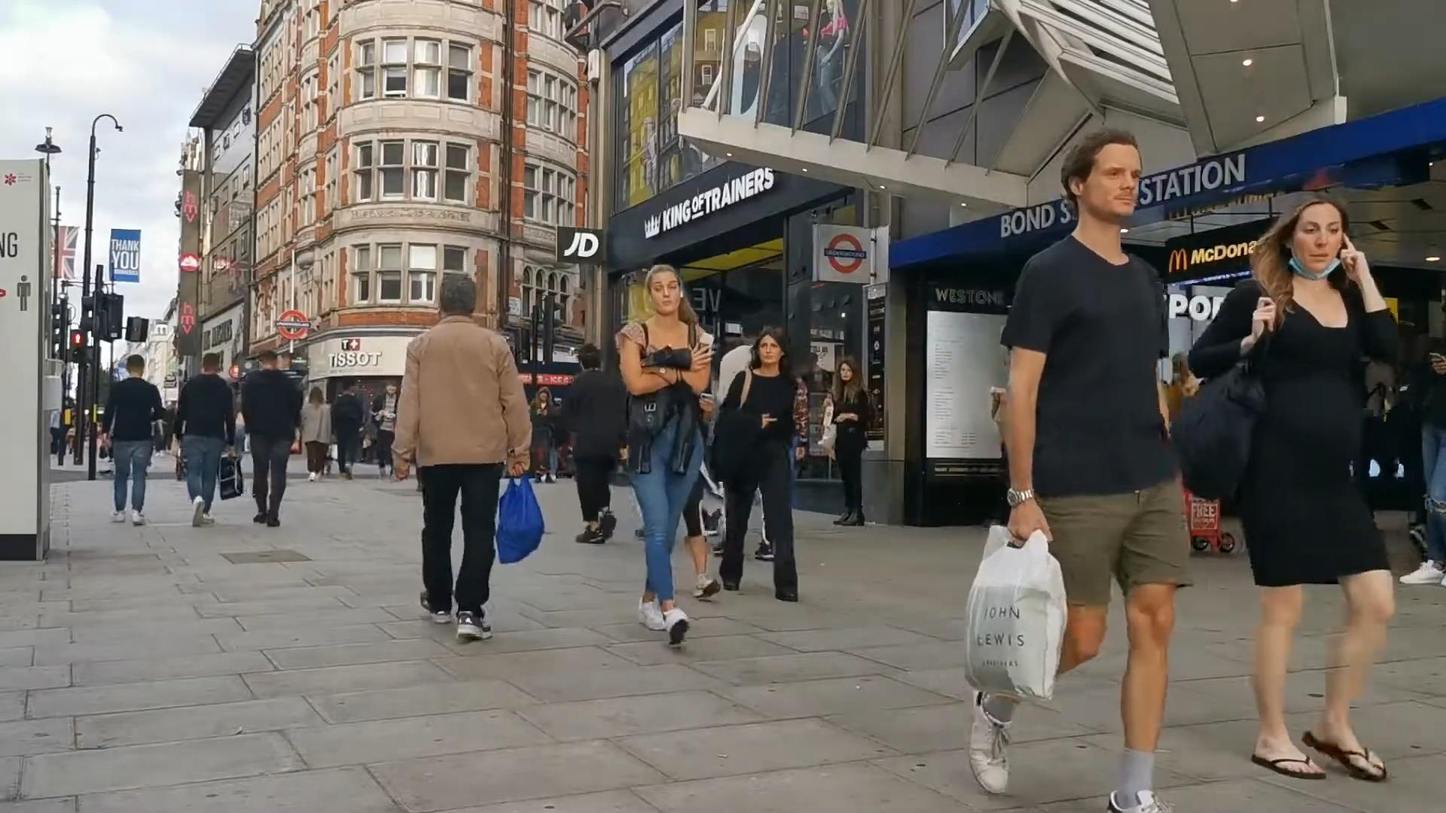no-helmet: (1061, 128, 1144, 217), (1270, 191, 1349, 280), (643, 264, 685, 316), (438, 273, 477, 317), (751, 327, 790, 364), (578, 343, 603, 372), (837, 356, 858, 381), (126, 354, 145, 377), (309, 386, 324, 408)
